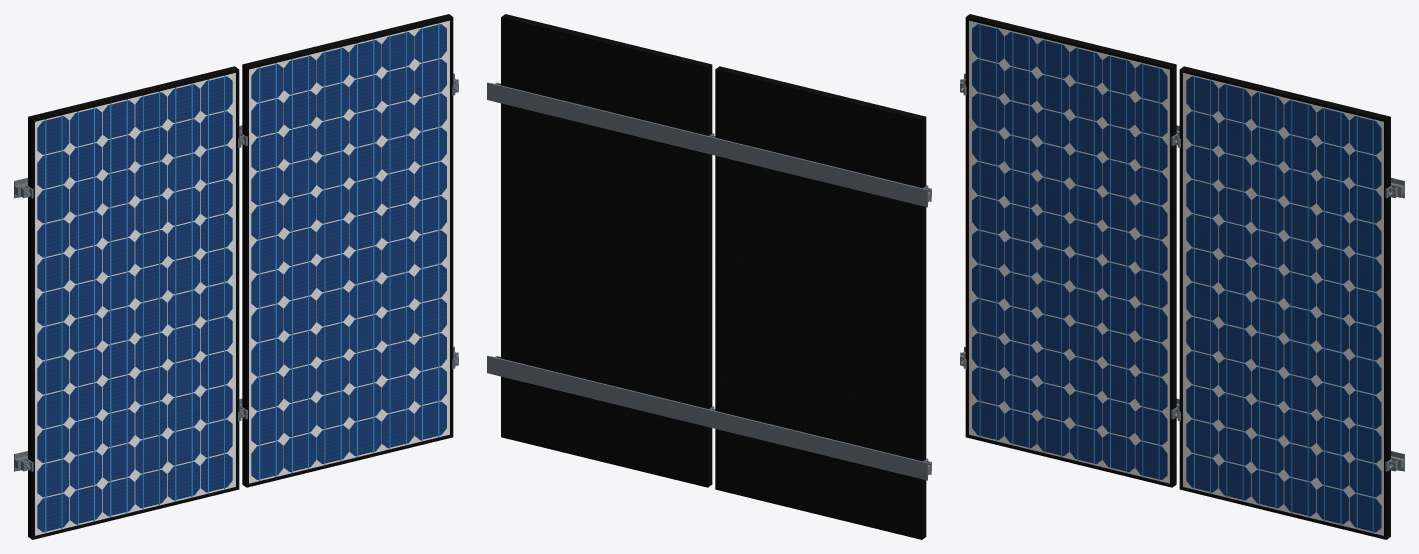
The model's file is 10781_Solar-Panels_V1.obj.
The picture shows the model from 3 angles, left to right: view 1: azimuth 30°, elevation 25°; view 2: azimuth 150°, elevation 25°; view 3: azimuth 330°, elevation 25°; orthographic projection.
Parts seen in each view (by area): view 1: small_032panels, panel, wire, Default; view 2: panel, Default; view 3: small_032panels, panel, wire, Default.
Part boxes in pixels (left/top/right/bottom): small_032panels: left=37, top=24, right=446, bottom=532; panel: left=28, top=14, right=453, bottom=539; wire: left=45, top=23, right=439, bottom=533; Default: left=14, top=73, right=458, bottom=471; panel: left=501, top=14, right=926, bottom=539; Default: left=487, top=82, right=931, bottom=480; small_032panels: left=972, top=24, right=1381, bottom=532; panel: left=965, top=14, right=1390, bottom=539; wire: left=979, top=23, right=1373, bottom=533; Default: left=960, top=73, right=1404, bottom=471.
Size of the model in its own units: 167 by 152 by 6.33.
Materials: 2 (2 with a texture image).
